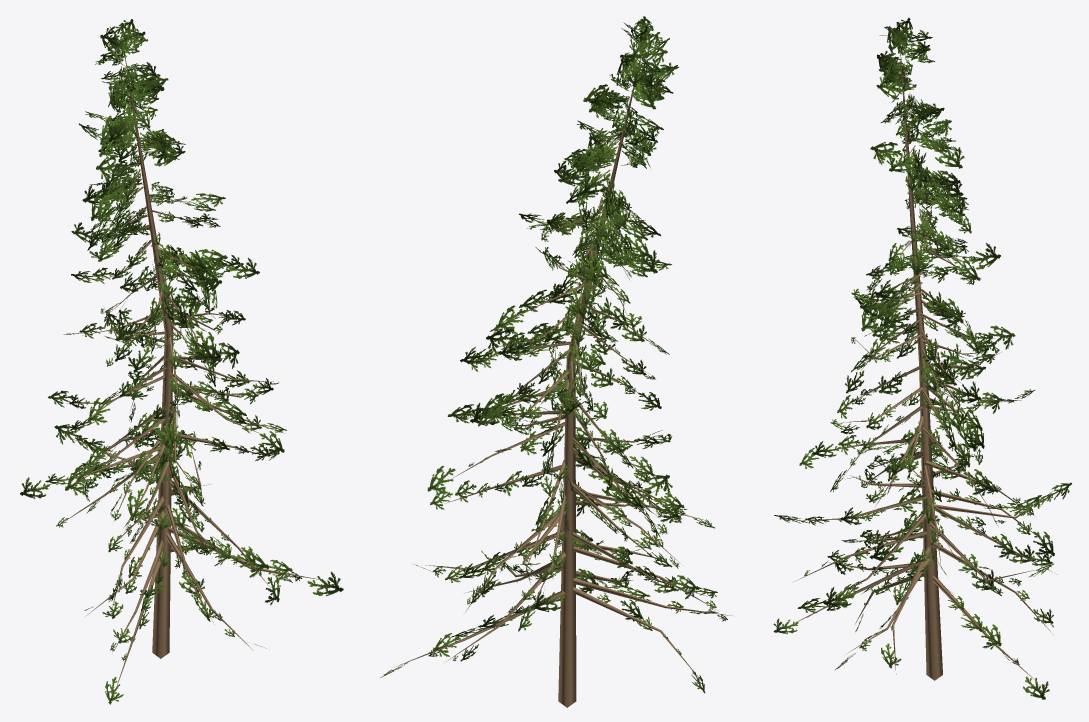
Rendered from pine-lod2.glb.
3 views of the same model, side by side, from view 1: azimuth 30°, elevation 25°; view 2: azimuth 150°, elevation 25°; view 3: azimuth 270°, elevation 25° (orthographic). The views are drawn at different scales.
Visible parts, largest first — view 1: leaf cards, branches; view 2: leaf cards, branches; view 3: leaf cards, branches.
Part boxes in pixels (x1=…): leaf cards: x1=20, y1=19, x2=343, y2=704; branches: x1=37, y1=44, x2=324, y2=696; leaf cards: x1=380, y1=16, x2=727, y2=693; branches: x1=396, y1=58, x2=734, y2=707; leaf cards: x1=773, y1=17, x2=1071, y2=699; branches: x1=790, y1=43, x2=1057, y2=684.
Size of the model in its own units: 4.13 by 9.96 by 4.39.
2 materials, 1 textured.
